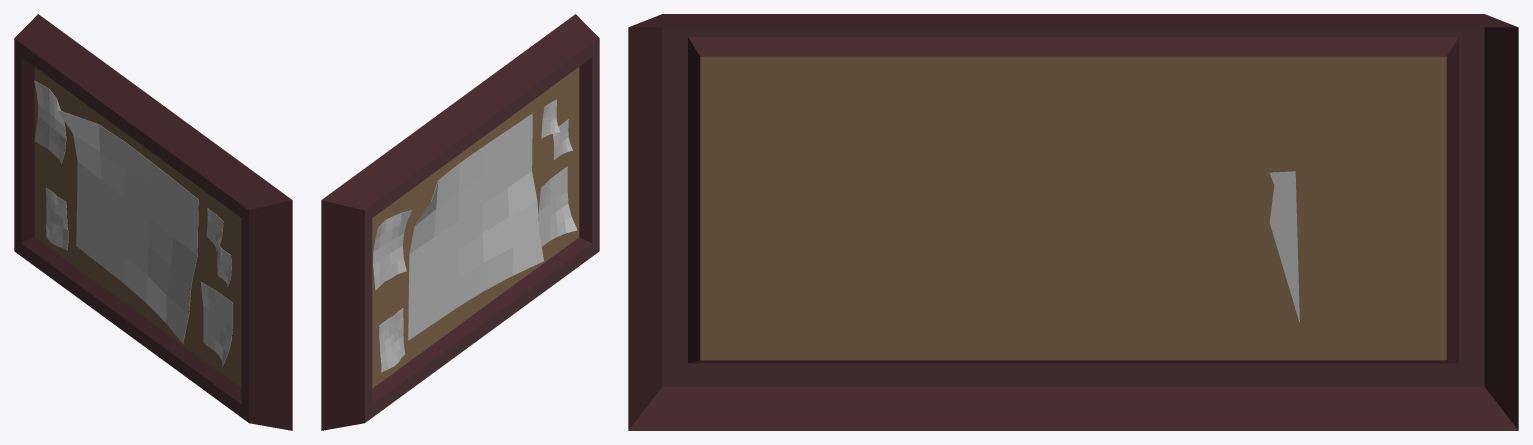
File: 3D_info_board.fbx
3 views of the same model, side by side, from view 1: azimuth 30°, elevation 25°; view 2: azimuth 150°, elevation 25°; view 3: azimuth 270°, elevation 25° (orthographic). The views are drawn at different scales.
Parts seen in each view (by area): view 1: Train Map Board.001, Paper 1.003, Paper 1.005, Paper 2.003, Paper 2.002, Paper 1.004; view 2: Train Map Board.001, Paper 1.003, Paper 1.005, Paper 2.003, Paper 2.002, Paper 1.004; view 3: Train Map Board.001, Paper 1.003.
Boxes of the visible parts, left/top/right/bottom form: Train Map Board.001: left=14, top=14, right=292, bottom=430; Paper 1.003: left=57, top=109, right=198, bottom=343; Paper 1.005: left=200, top=282, right=232, bottom=366; Paper 2.003: left=34, top=80, right=66, bottom=164; Paper 2.002: left=45, top=188, right=68, bottom=250; Paper 1.004: left=206, top=208, right=231, bottom=286; Train Map Board.001: left=321, top=14, right=599, bottom=430; Paper 1.003: left=408, top=113, right=543, bottom=340; Paper 1.005: left=538, top=166, right=577, bottom=246; Paper 2.003: left=372, top=210, right=412, bottom=290; Paper 2.002: left=379, top=308, right=405, bottom=372; Paper 1.004: left=541, top=99, right=572, bottom=159; Train Map Board.001: left=628, top=14, right=1518, bottom=430; Paper 1.003: left=1269, top=171, right=1299, bottom=321.
Bounding box in the file's own units: 0.2698 × 1.3 × 2.6.
